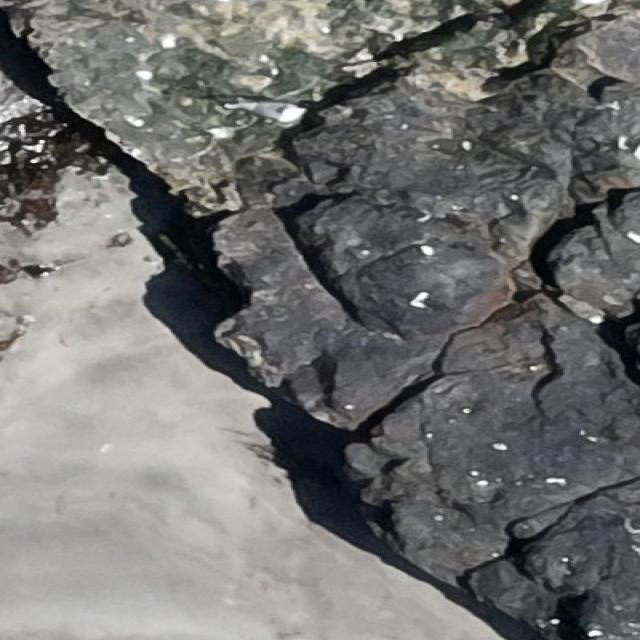umineko: (234, 100, 304, 123)
